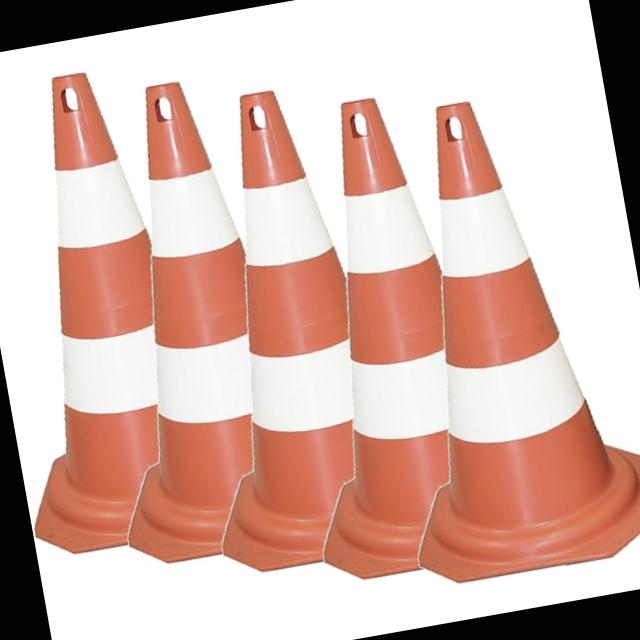cone: (394, 68, 630, 552), (186, 69, 390, 539), (0, 74, 199, 548)
